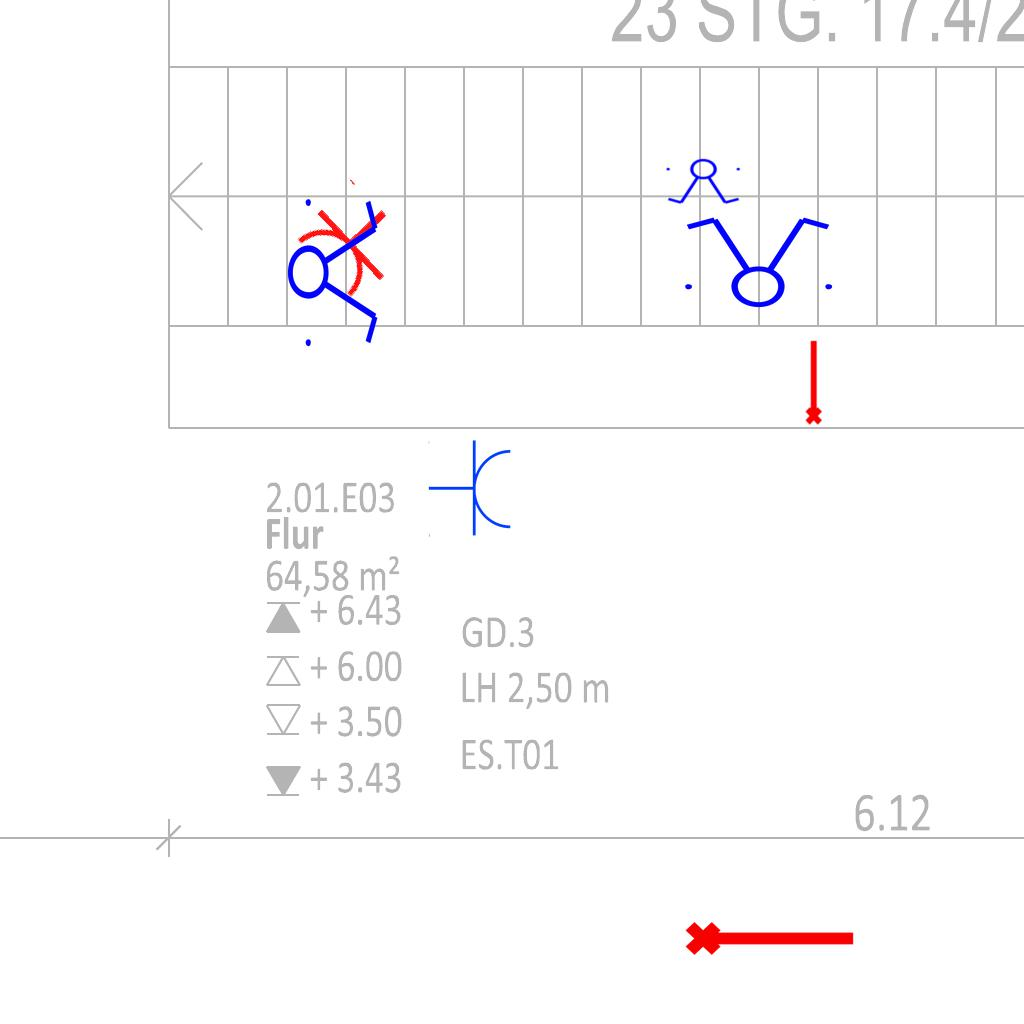ASR_Ansaugoeffnung: (683, 913, 859, 959), (801, 338, 824, 426)
Schukosteckdose_einfach: (286, 173, 419, 307), (428, 439, 515, 539)
Serienschalter: (673, 213, 841, 309), (286, 187, 382, 355), (662, 158, 746, 206)
